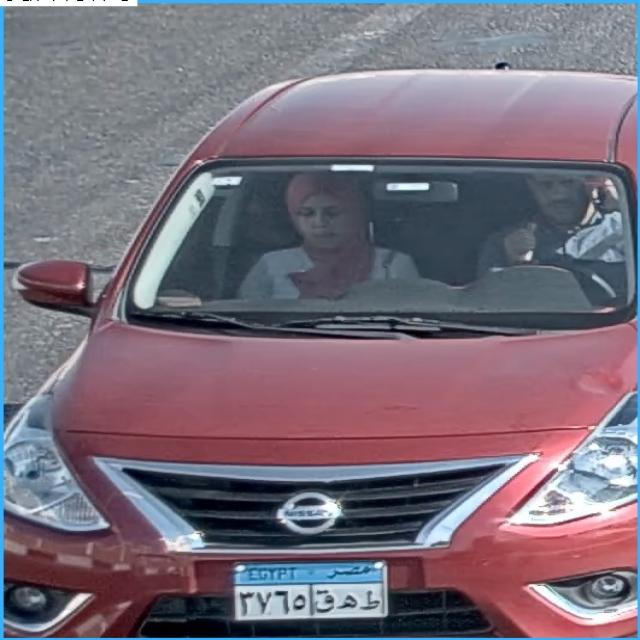windshield: (110, 161, 638, 315)
